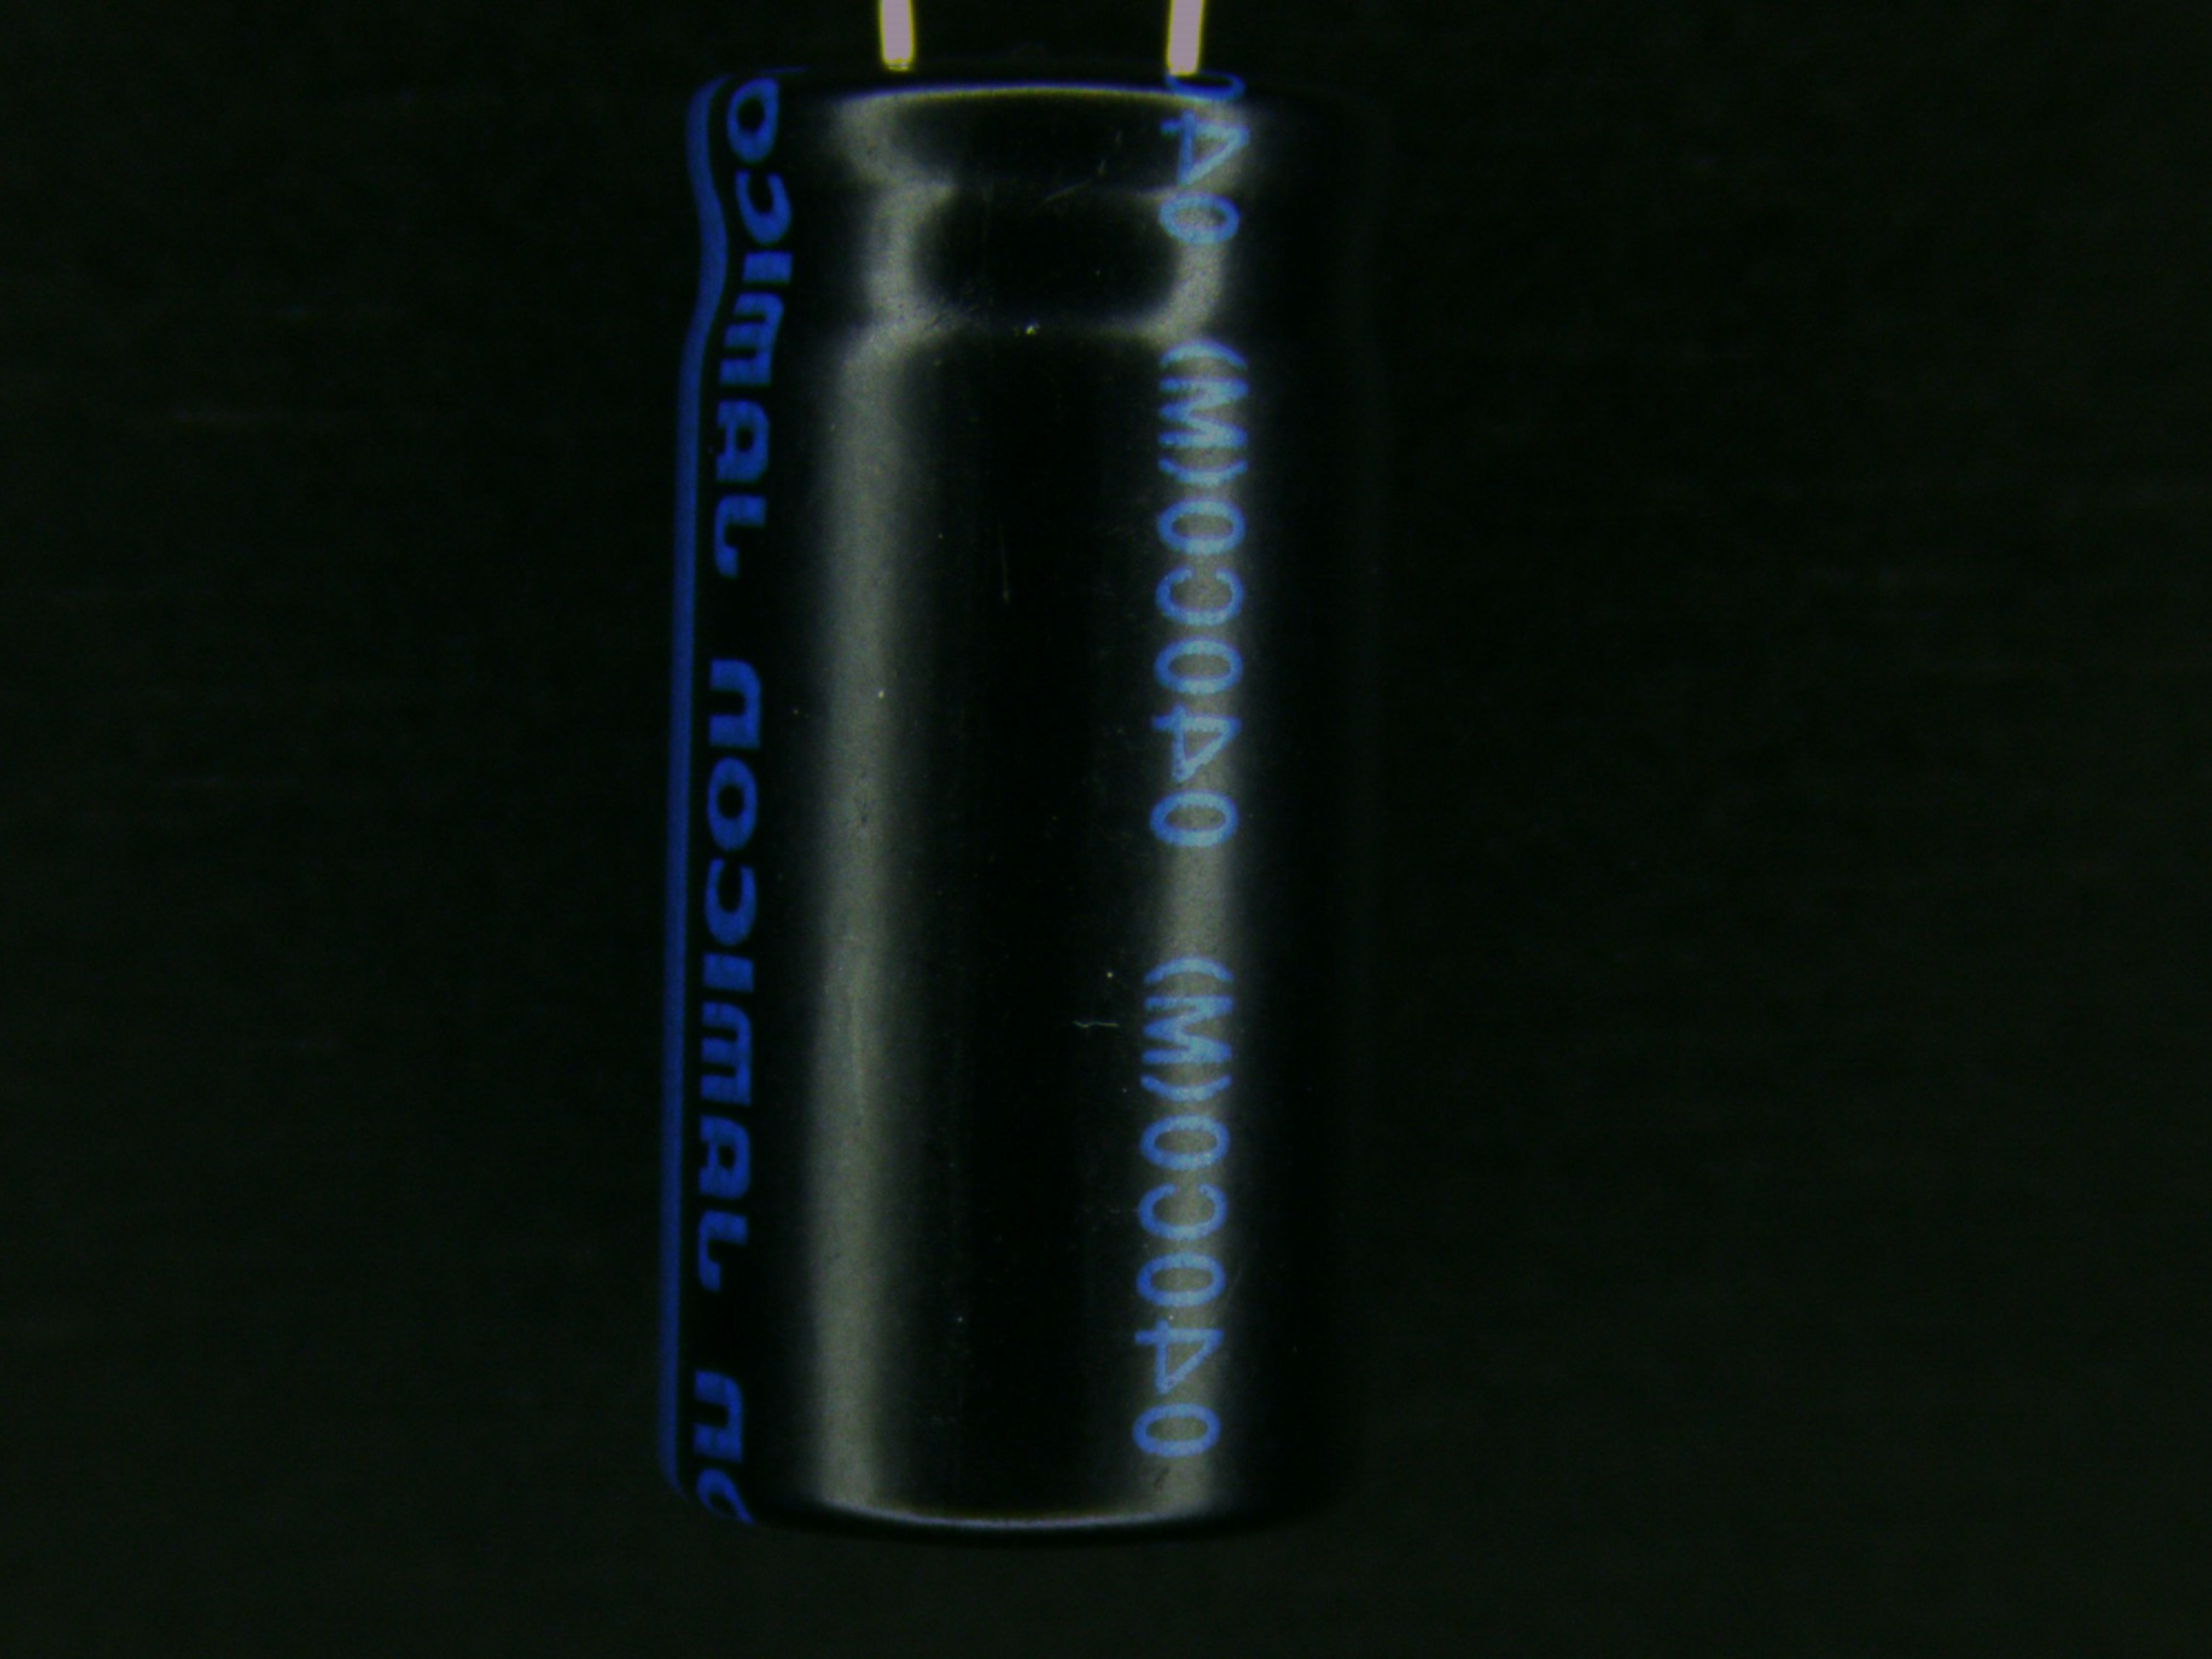c2: (648, 0, 1395, 1553)
